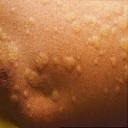Hives: (30, 53, 80, 96), (6, 41, 19, 64), (84, 35, 105, 47)
